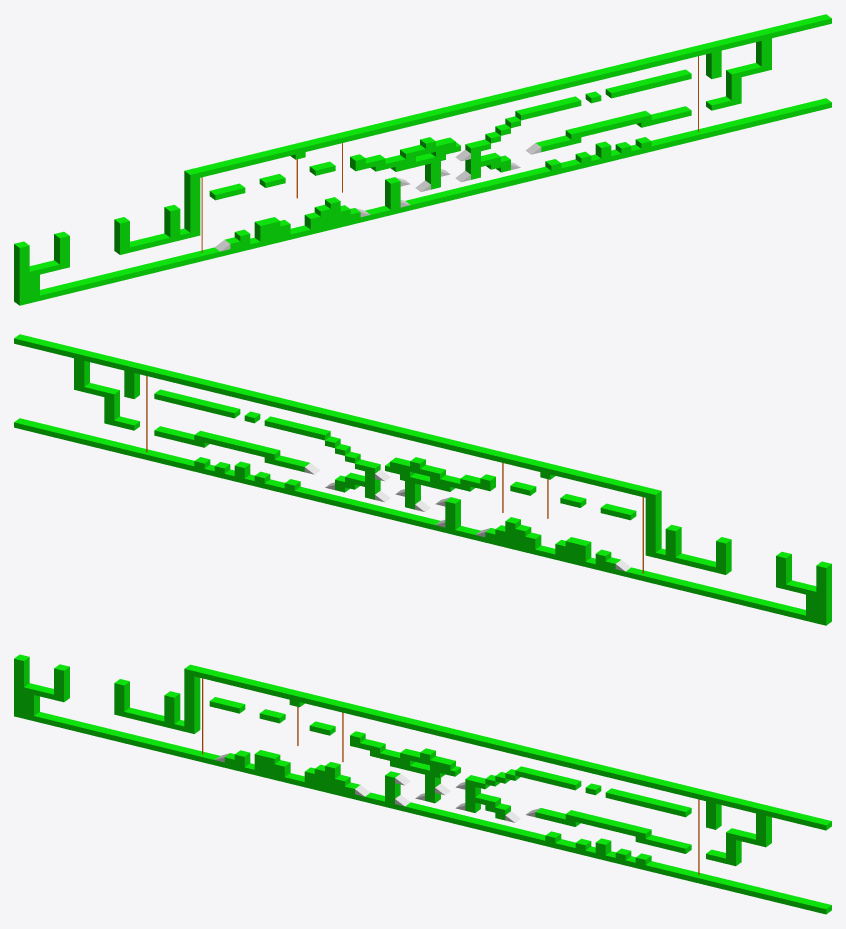
Rendered from room(-1,-1)Blockout.gltf.
The picture shows the model from 3 angles, top to bottom: view 1: azimuth 30°, elevation 25°; view 2: azimuth 150°, elevation 25°; view 3: azimuth 330°, elevation 25°; orthographic projection.
Size of the model in its own units: 162 by 17 by 2.
